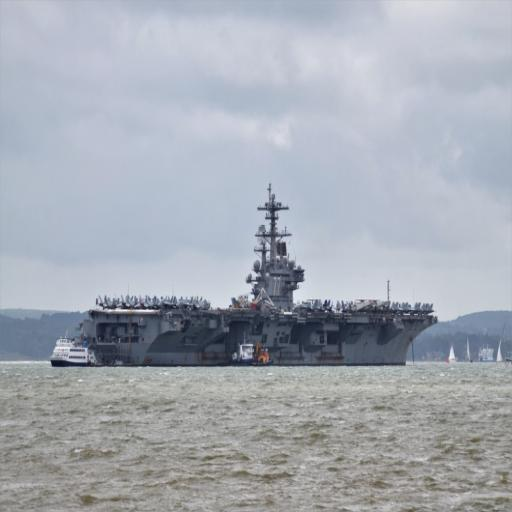Portanaves: (75, 184, 441, 363)
